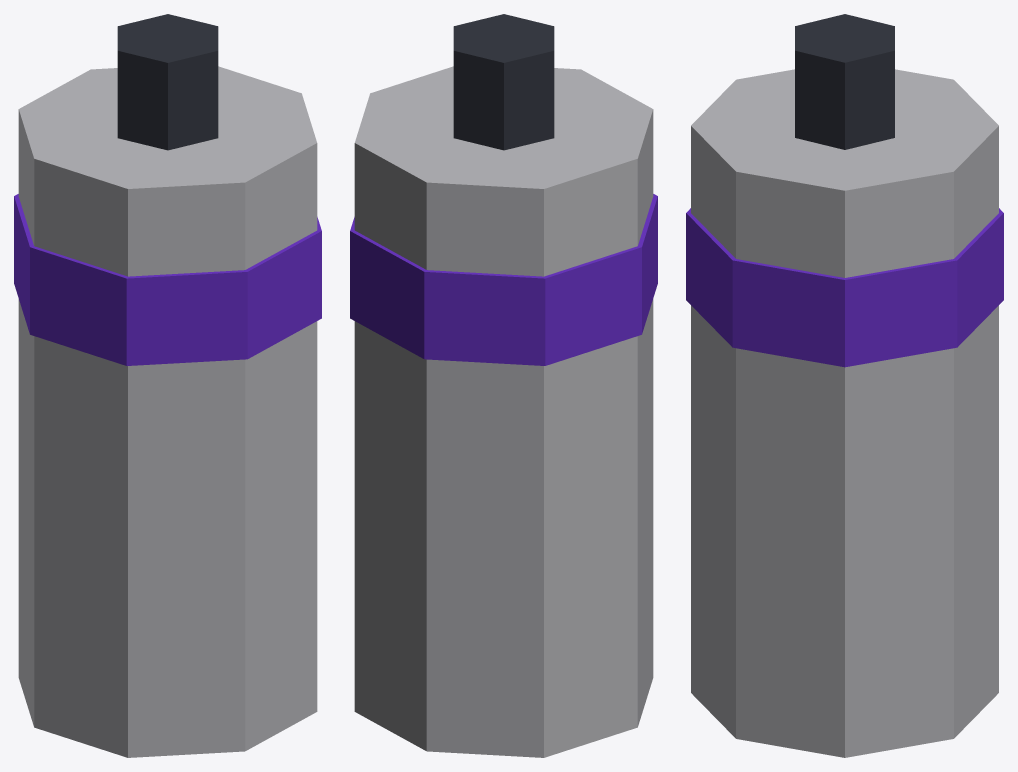
Rendered from smoke_can.glb.
3 views of the same model, side by side, from view 1: azimuth 30°, elevation 25°; view 2: azimuth 150°, elevation 25°; view 3: azimuth 270°, elevation 25° (orthographic).
Parts seen in each view (by area): view 1: model; view 2: model; view 3: model.
Part boxes in pixels (left/top/right/bottom): model: left=14, top=14, right=321, bottom=757; model: left=350, top=14, right=657, bottom=757; model: left=686, top=14, right=1003, bottom=757.
Size of the model in its own units: 0.066 by 0.15 by 0.066.
